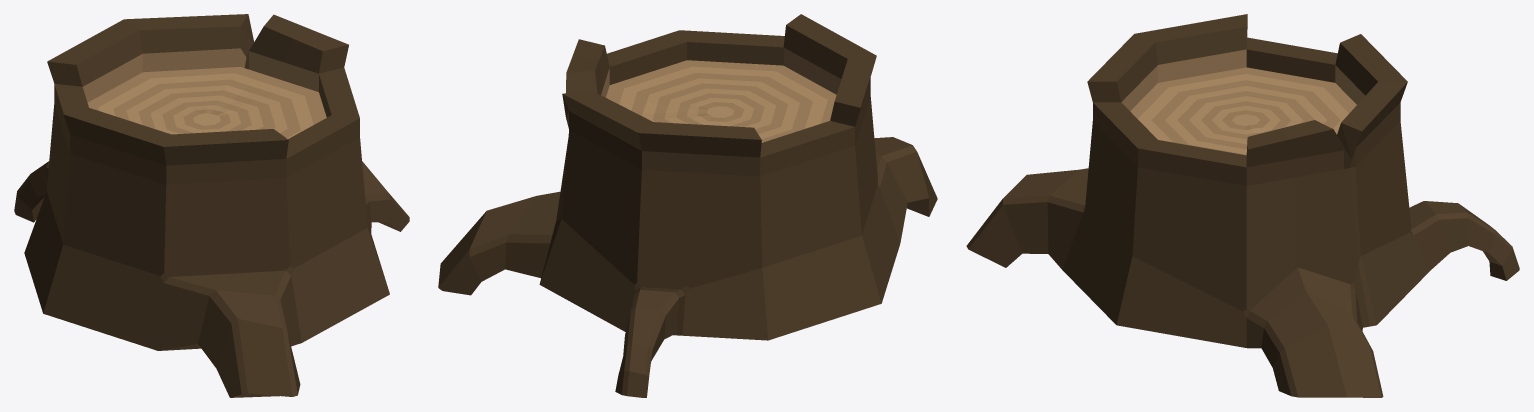
The model's file is bois3.gltf.
3 renders of one model, left to right at view 1: azimuth 30°, elevation 25°; view 2: azimuth 150°, elevation 25°; view 3: azimuth 270°, elevation 25°, orthographic. The views are drawn at different scales.
Parts seen in each view (by area): view 1: bois3; view 2: bois3; view 3: bois3.
Part boxes in pixels (bbox=[...]): bois3: bbox=[14, 14, 409, 397]; bois3: bbox=[438, 14, 937, 397]; bois3: bbox=[966, 14, 1519, 397].
Size of the model in its own units: 1.27 by 0.7036 by 1.58.
3 materials, 3 textured.
